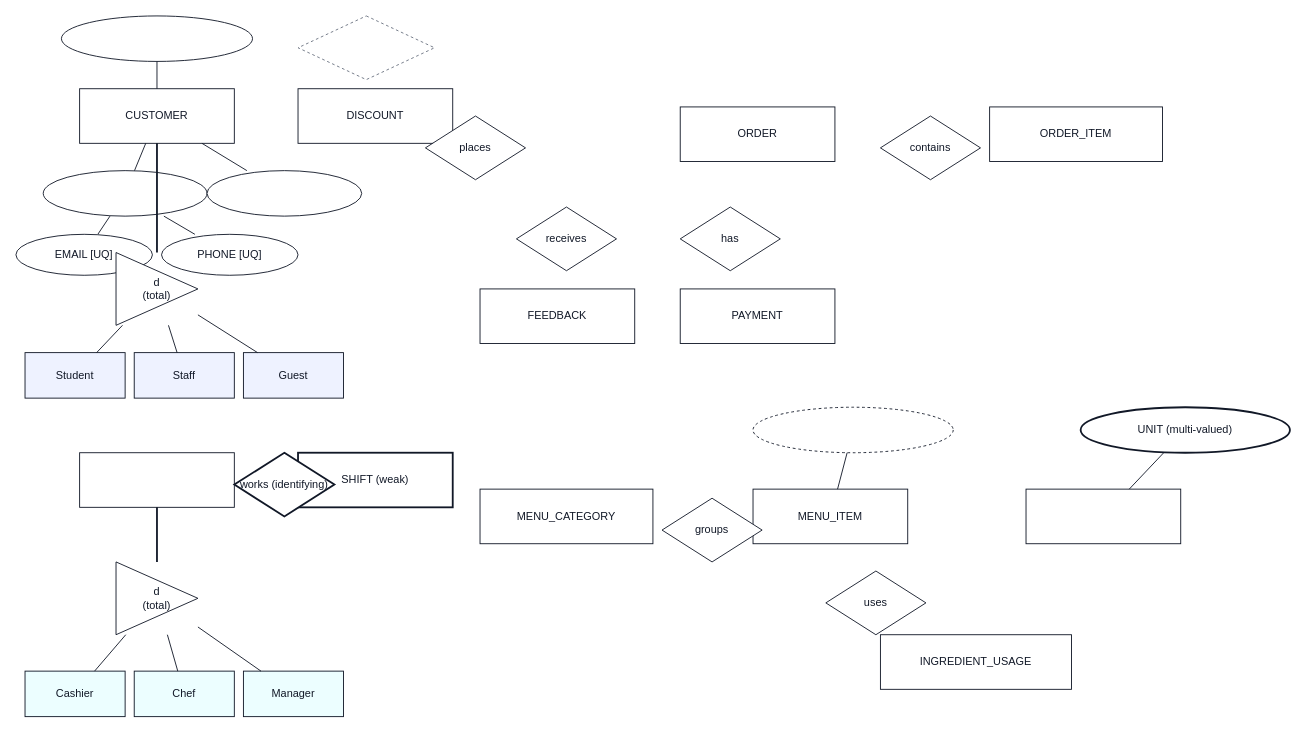
Image size: 1307x733. Some labels were removed from this diagram. The shapes that lost their labels are listed below. From the top down, each one's centre as x and y in pixels, then its label:
At point (157, 38): "CUSTOMER_ID (PK)".
At point (366, 47): "applies by type".
At point (124, 193): "CONTACT_INFO".
At point (284, 193): "CUSTOMER_TYPE".
At point (852, 429): "AVERAGE_RATING (derived)".
At point (156, 479): "EMPLOYEE".
At point (1103, 516): "INVENTORY".
